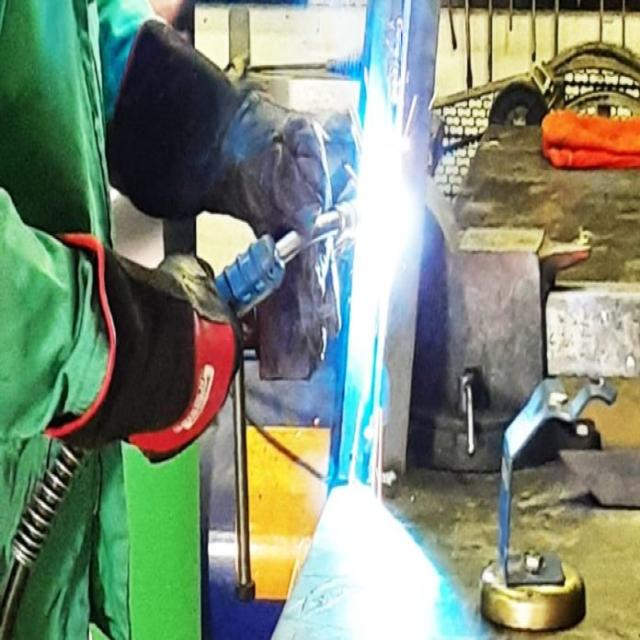welding: (360, 69, 418, 287)
